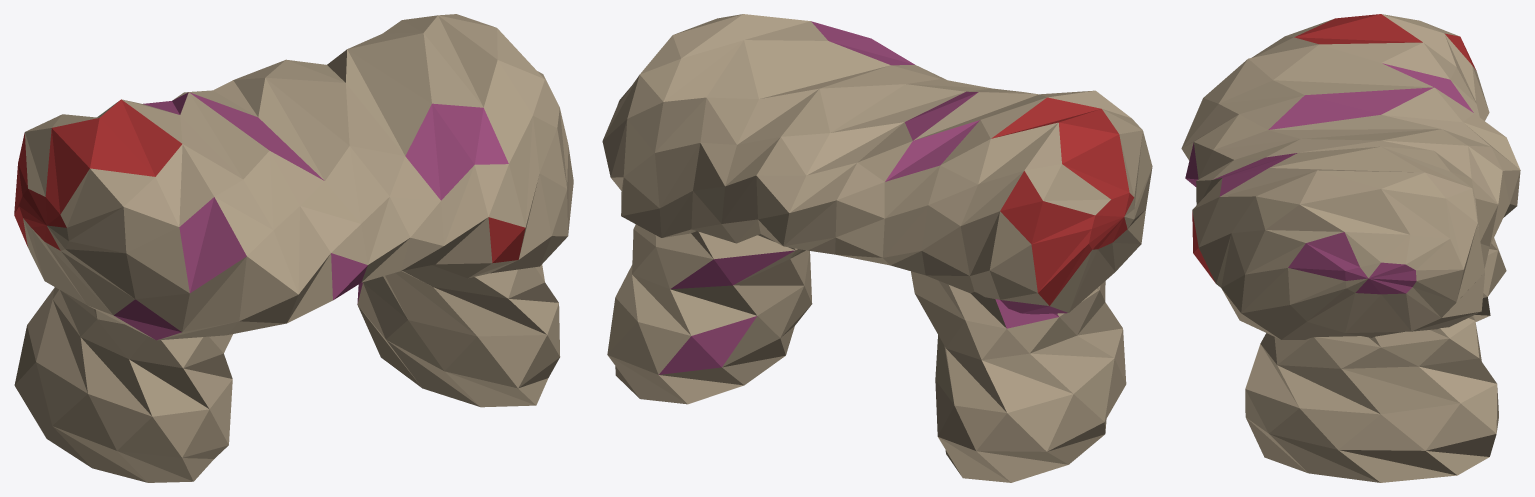
File: rock-cave-ledge-2a9532.glb
3 renders of one model, left to right at view 1: azimuth 30°, elevation 25°; view 2: azimuth 150°, elevation 25°; view 3: azimuth 270°, elevation 25°, orthographic. The views are drawn at different scales.
Parts seen in each view (by area): view 1: rock-cave-ledge-body; view 2: rock-cave-ledge-body; view 3: rock-cave-ledge-body.
Boxes of the visible parts, x1,y1,x2,y2 form: rock-cave-ledge-body: (14,14,573,482); rock-cave-ledge-body: (602,14,1152,482); rock-cave-ledge-body: (1181,14,1520,482).
Bounding box in the file's own units: 0.402 × 0.2557 × 0.2696.
